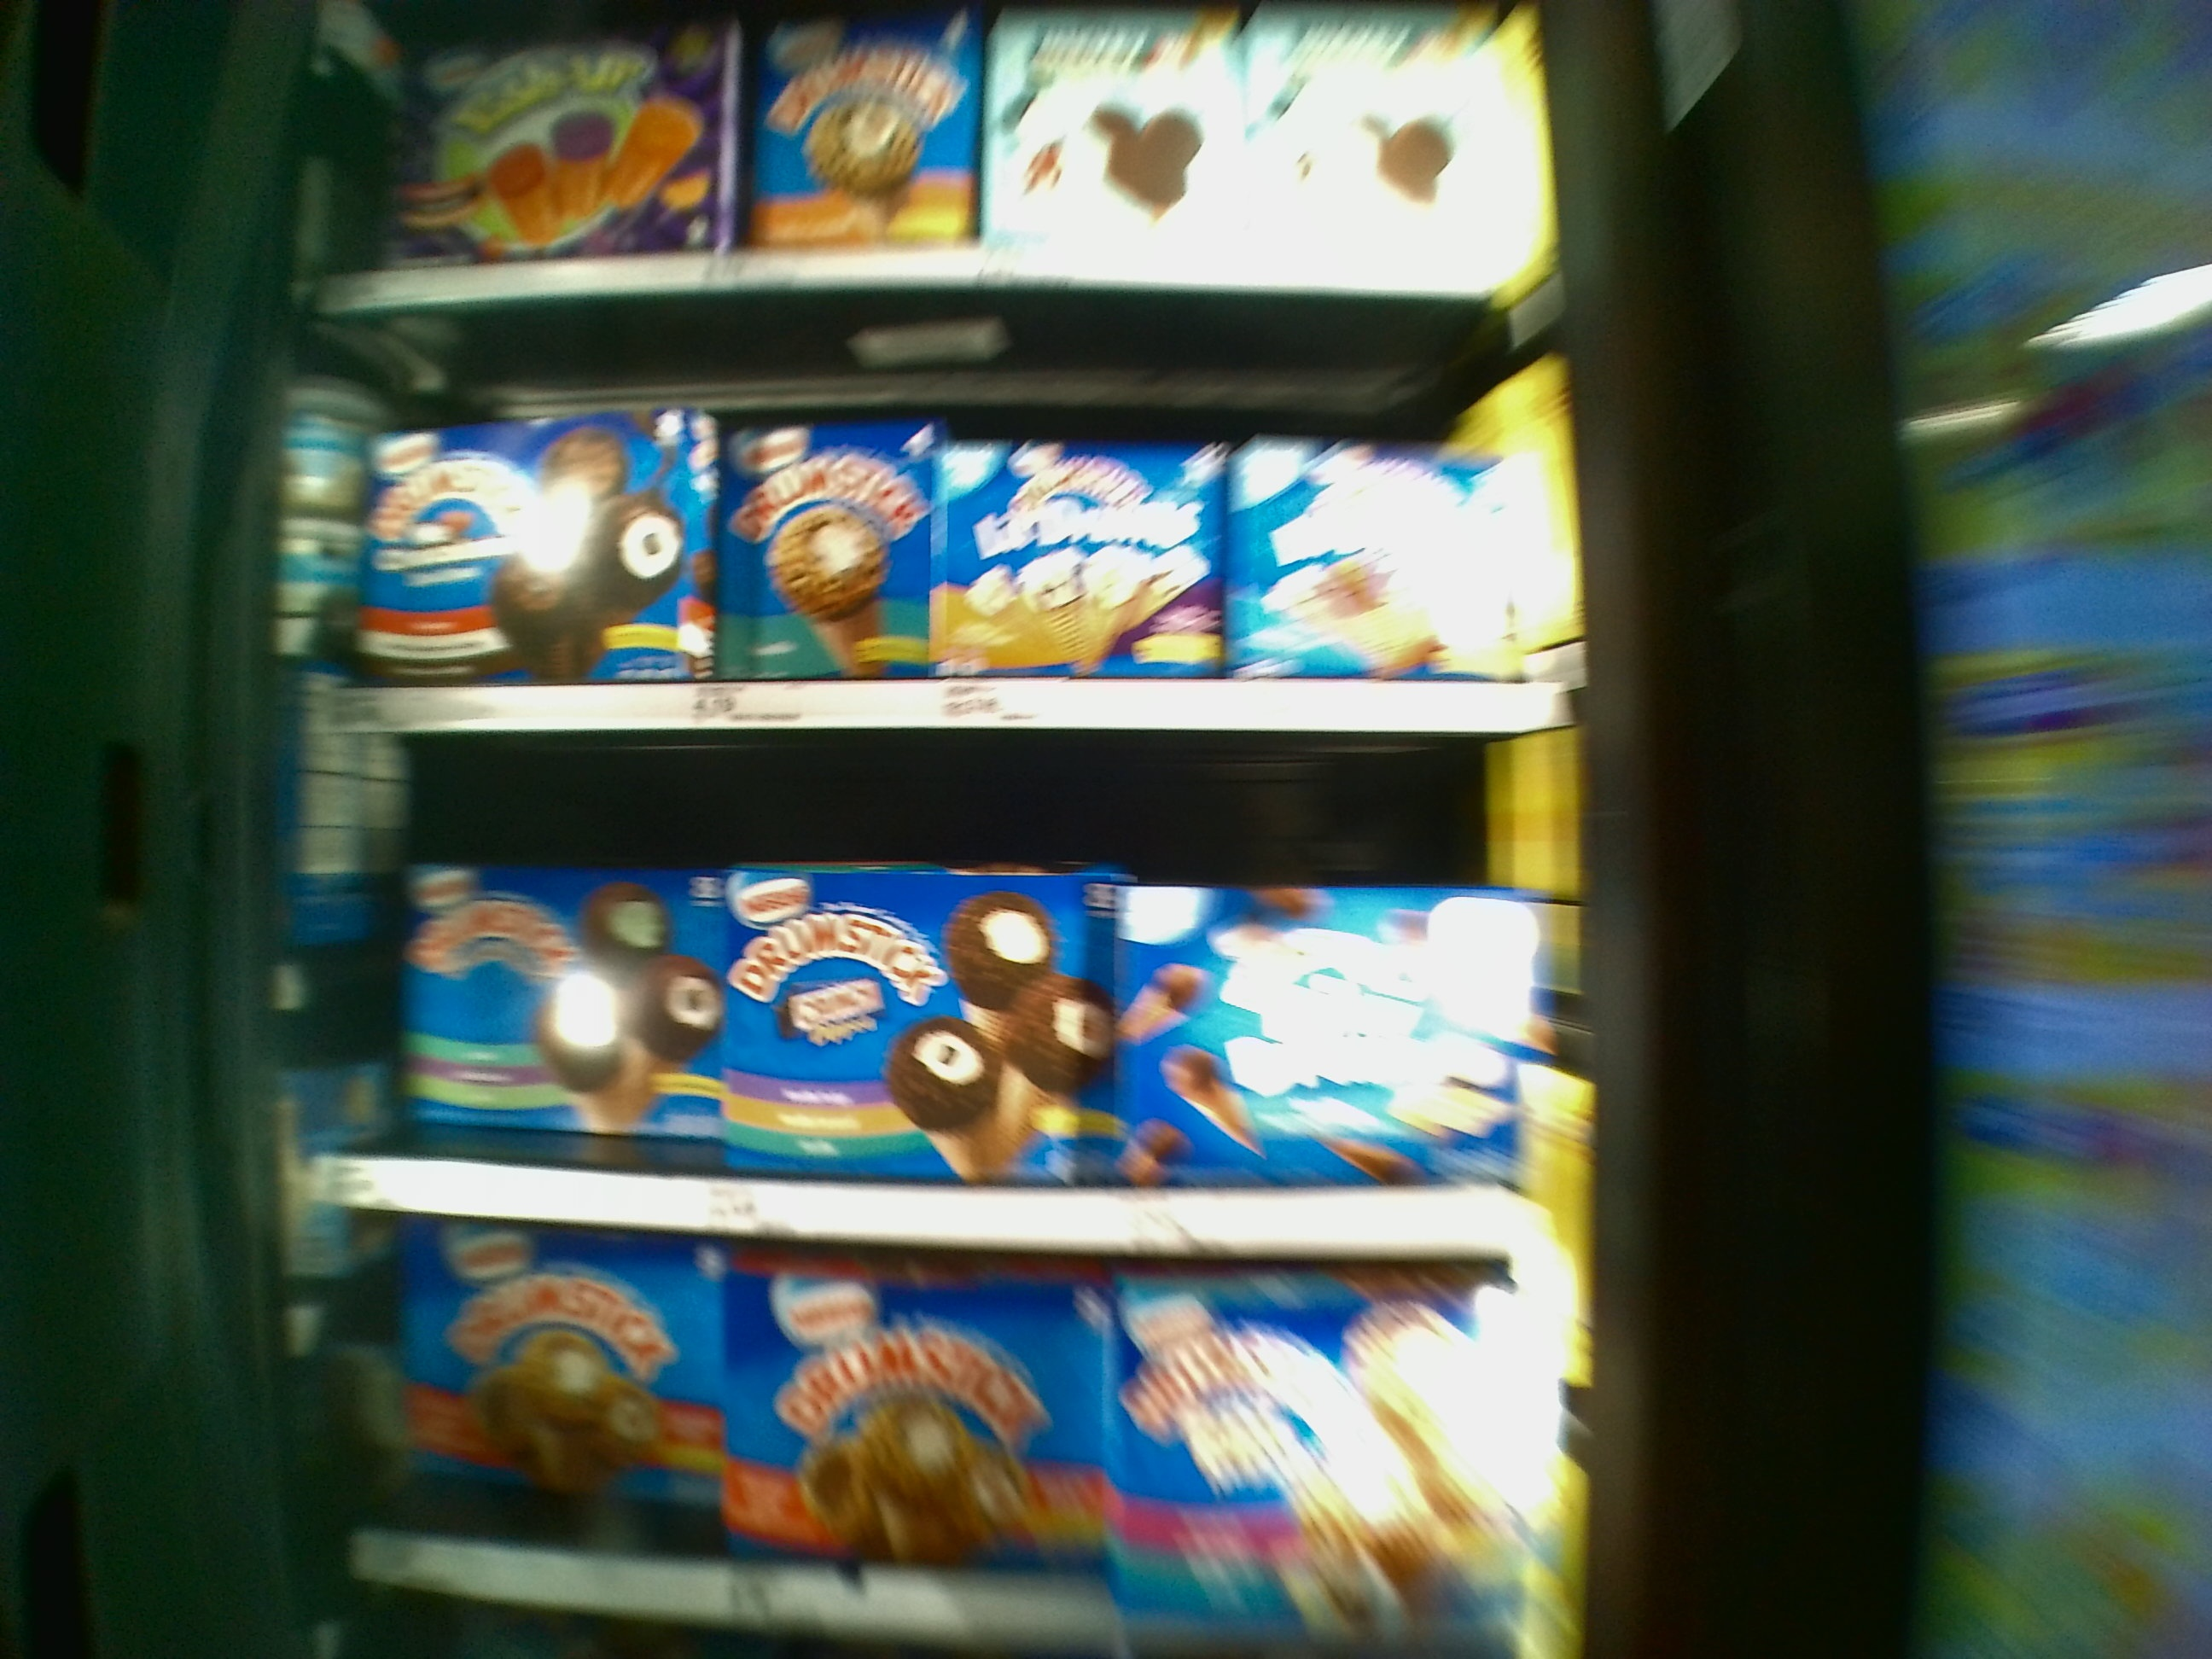shelf: (317, 741, 1564, 1265), (300, 340, 1566, 730)
